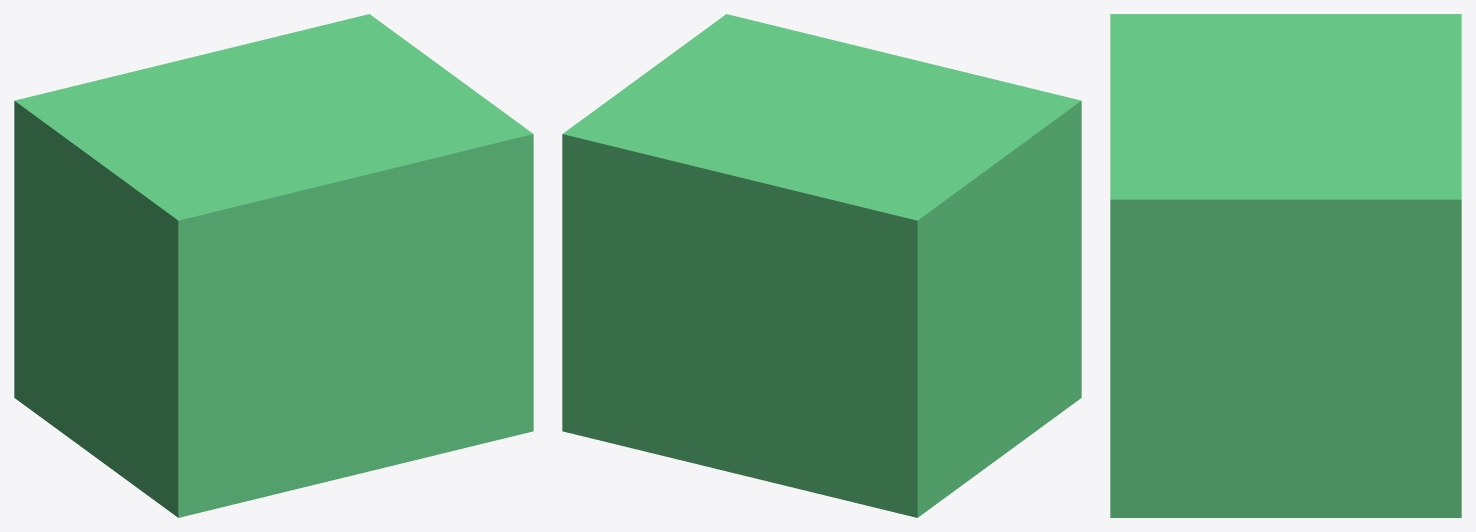
File: voxel_slime.glb
3 renders of one model, left to right at view 1: azimuth 30°, elevation 25°; view 2: azimuth 150°, elevation 25°; view 3: azimuth 270°, elevation 25°, orthographic. The views are drawn at different scales.
Parts seen in each view (by area): view 1: sl_body; view 2: sl_body; view 3: sl_body.
Part boxes in pixels (box(x1,y1,x2,y2)): sl_body: box(14, 14, 533, 517); sl_body: box(562, 14, 1081, 517); sl_body: box(1110, 14, 1461, 517).
Size of the model in its own units: 0.8 by 0.64 by 0.64.
